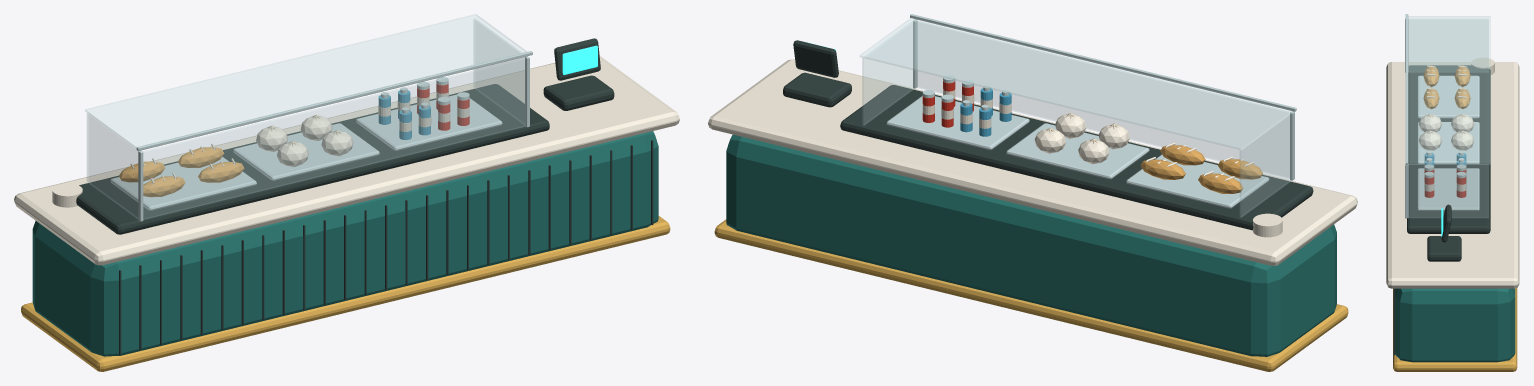
The model's file is food-counter.glb.
The picture shows the model from 3 angles, left to right: view 1: azimuth 30°, elevation 25°; view 2: azimuth 150°, elevation 25°; view 3: azimuth 270°, elevation 25°; orthographic projection. The views are drawn at different scales.
Parts seen in each view (by area): view 1: food_counter_batched; view 2: food_counter_batched; view 3: food_counter_batched.
Part boxes in pixels (bbox=[...]): food_counter_batched: bbox=[14, 14, 679, 371]; food_counter_batched: bbox=[708, 14, 1357, 371]; food_counter_batched: bbox=[1386, 14, 1519, 371].
Bounding box in the file's own units: 4.86 × 1.7 × 1.24.
